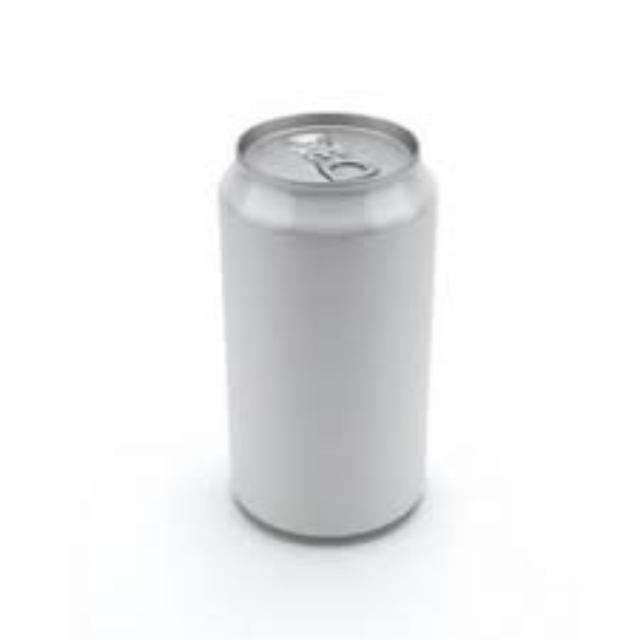metal: (219, 111, 430, 532)
